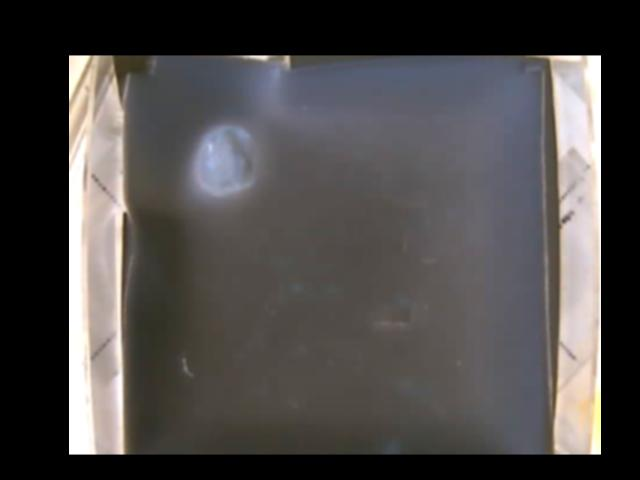Pebble: (195, 124, 256, 190)
